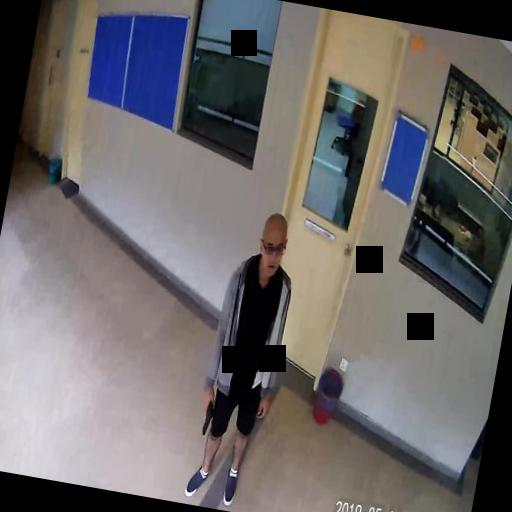Handgun: (196, 392, 214, 433)
